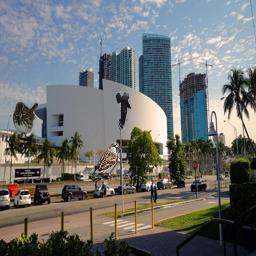Crow: (116, 91, 131, 131)
Sparrow: (91, 142, 119, 182), (13, 102, 38, 138)
